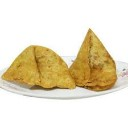samosa: (3, 45, 74, 89), (74, 27, 117, 89)
